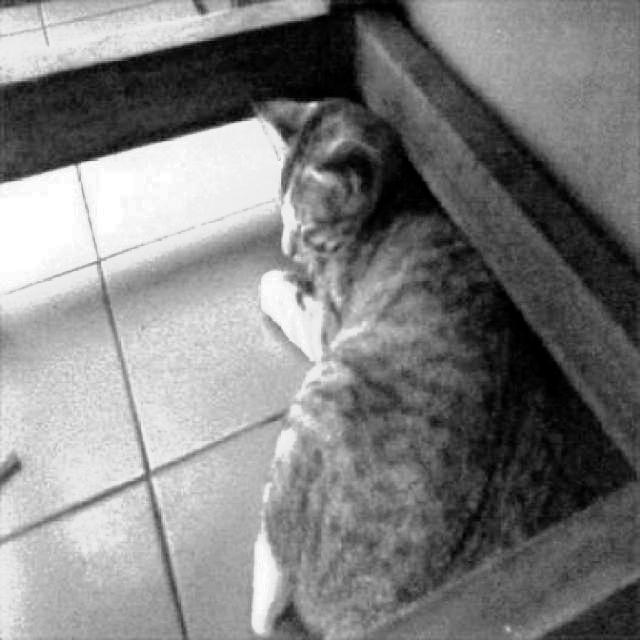Cat: (244, 84, 569, 640)
